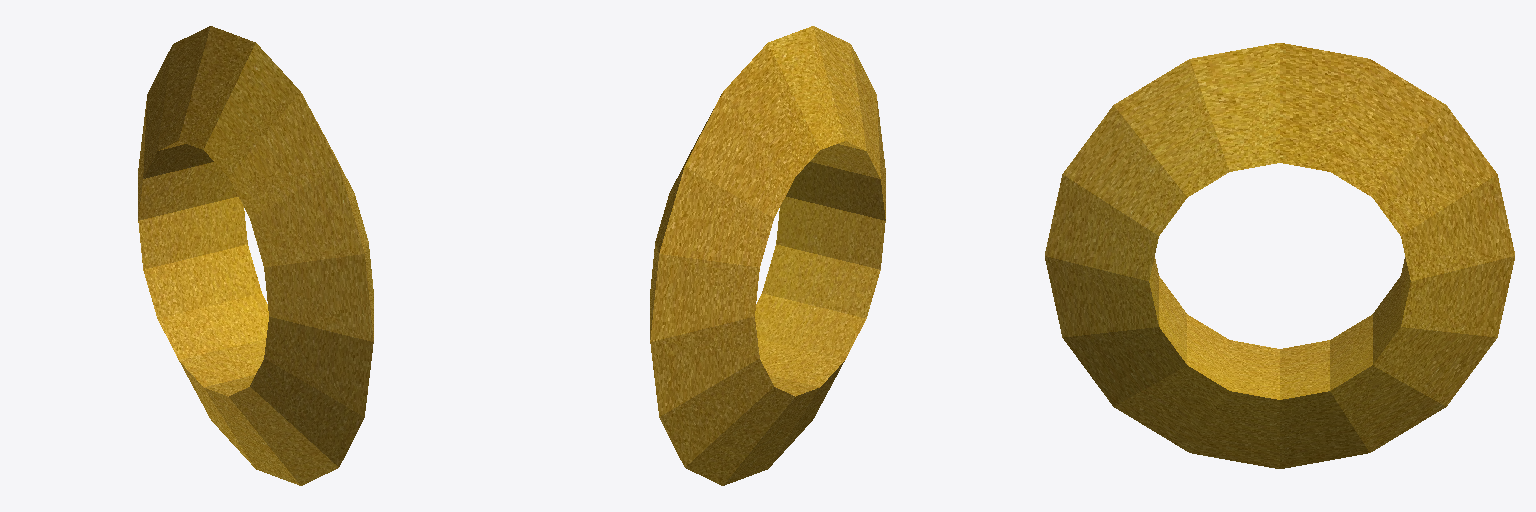
3 views of the same model, side by side, from view 1: azimuth 30°, elevation 25°; view 2: azimuth 150°, elevation 25°; view 3: azimuth 270°, elevation 25° (orthographic).
Visible parts, largest first — view 1: Torus; view 2: Torus; view 3: Torus.
Part boxes in pixels (x1,y1,x2,y2): Torus: (138,26,373,485); Torus: (650,26,885,485); Torus: (1045,43,1514,468).
Size of the model in its own units: 0.2771 by 1.08 by 1.08.
1 materials, 1 textured.